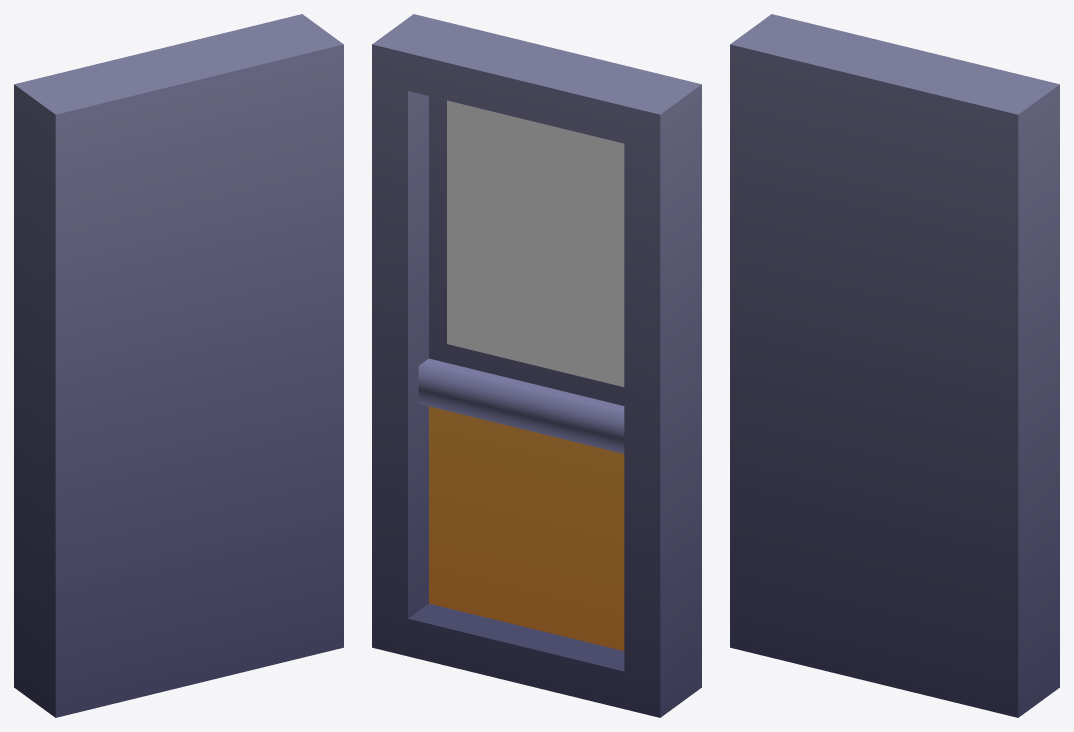
File: door.glb
3 views of the same model, side by side, from view 1: azimuth 30°, elevation 25°; view 2: azimuth 150°, elevation 25°; view 3: azimuth 330°, elevation 25° (orthographic).
Visible parts, largest first — view 1: door; view 2: door; view 3: door.
Part boxes in pixels (bbox=[...]): door: bbox=[14, 14, 343, 717]; door: bbox=[372, 14, 701, 717]; door: bbox=[730, 14, 1059, 717].
Size of the model in its own units: 0.8 by 1.6 by 0.2.
